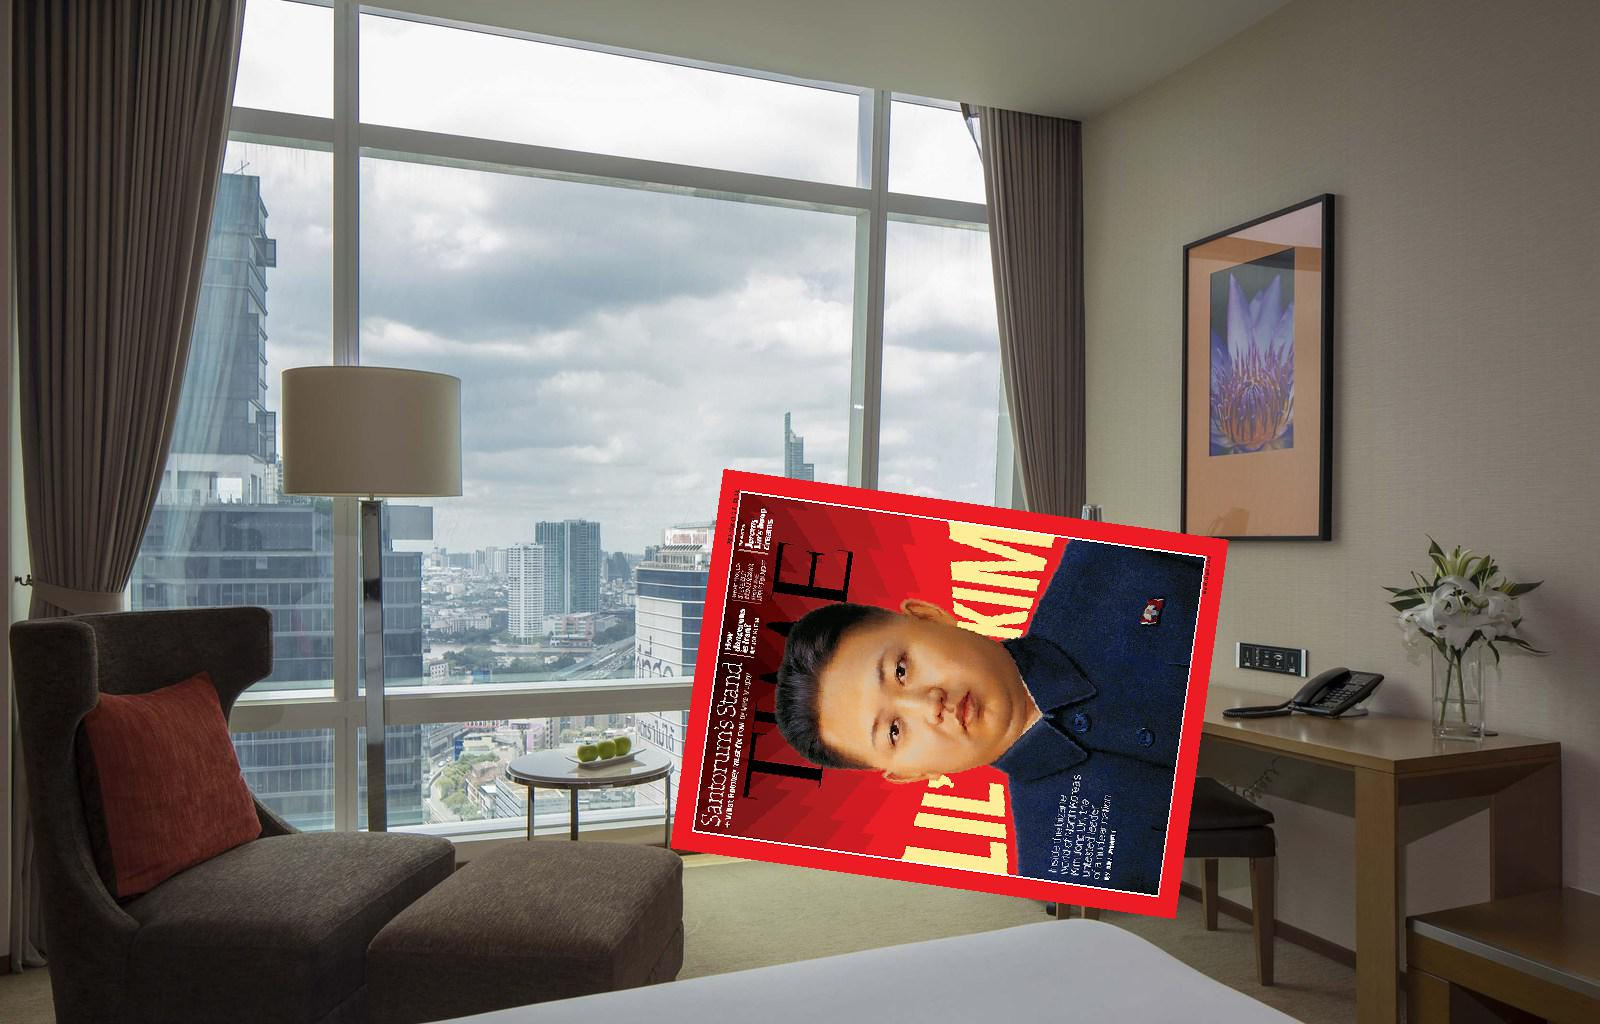times: (665, 458, 1236, 930)
